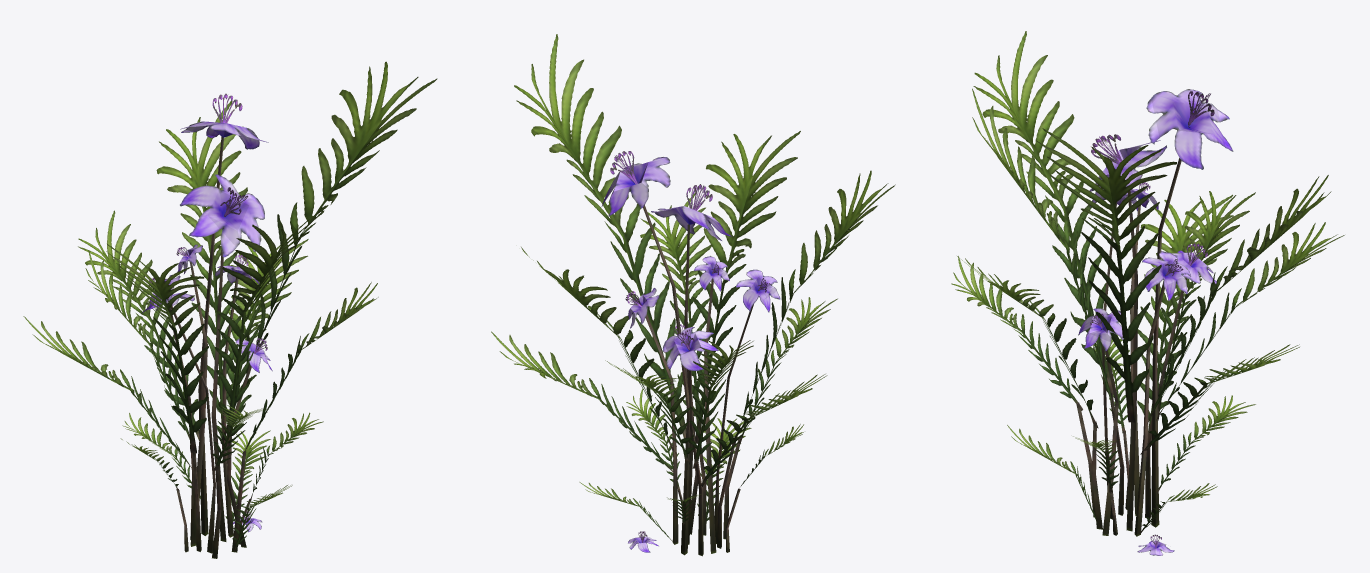
The model's file is wm_灌木花04.fbx.
The picture shows the model from 3 angles, left to right: view 1: azimuth 30°, elevation 25°; view 2: azimuth 150°, elevation 25°; view 3: azimuth 270°, elevation 25°; orthographic projection. The views are drawn at different scales.
Parts seen in each view (by area): view 1: wm_灌木花04; view 2: wm_灌木花04; view 3: wm_灌木花04.
Part boxes in pixels (box(x1,y1,x2,y2)): wm_灌木花04: box(23, 61, 437, 558); wm_灌木花04: box(491, 34, 895, 556); wm_灌木花04: box(951, 31, 1344, 555).
Size of the model in its own units: 132 by 160 by 118.
